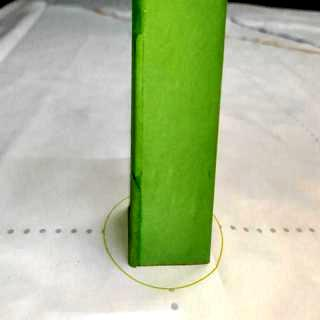greenbox: (130, 0, 228, 276)
